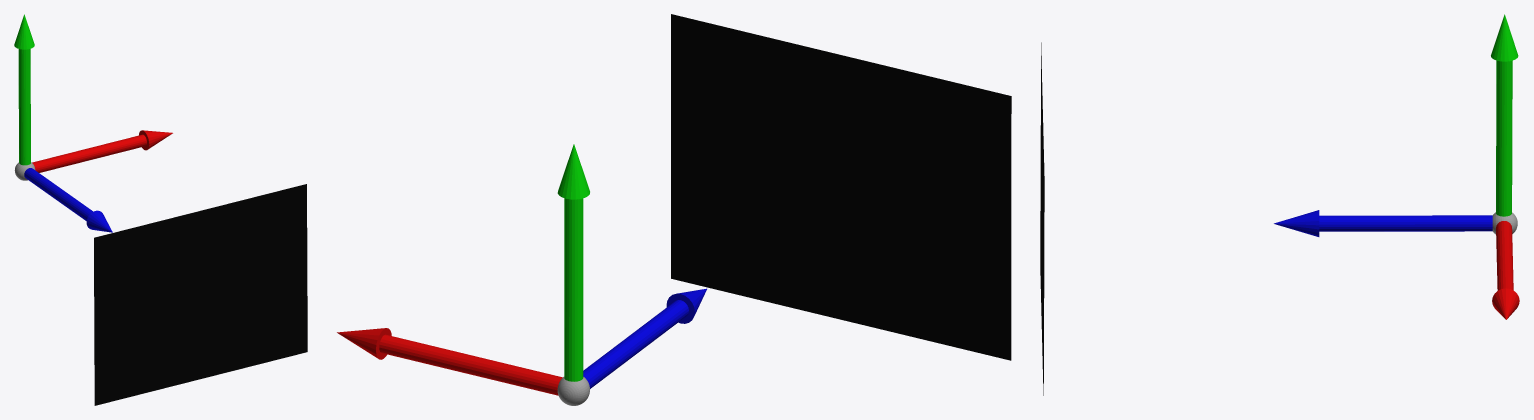
The picture shows the model from 3 angles, left to right: view 1: azimuth 30°, elevation 25°; view 2: azimuth 150°, elevation 25°; view 3: azimuth 270°, elevation 25°; orthographic projection. The views are drawn at different scales.
Bounding box in the file's own units: 0.2122 × 0.1915 × 0.2597.
